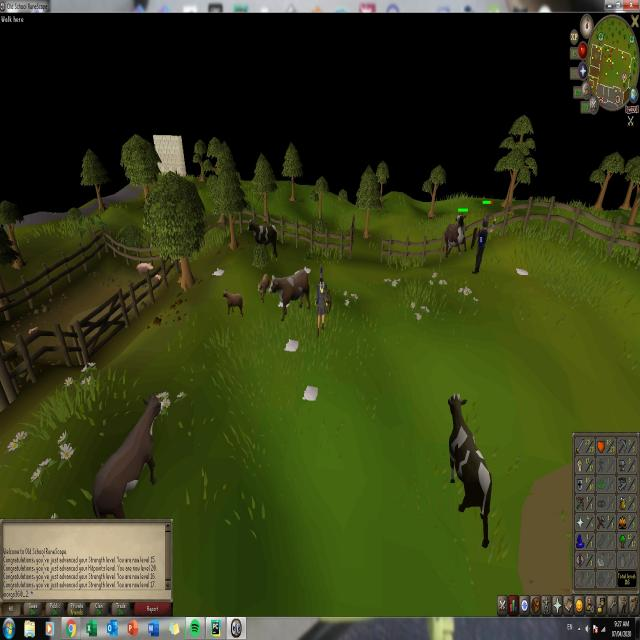cow: (94, 391, 162, 516), (446, 392, 493, 550), (270, 266, 312, 322), (246, 216, 278, 260), (443, 215, 468, 257), (222, 288, 243, 315), (256, 272, 271, 305)
player: (316, 268, 326, 339)
